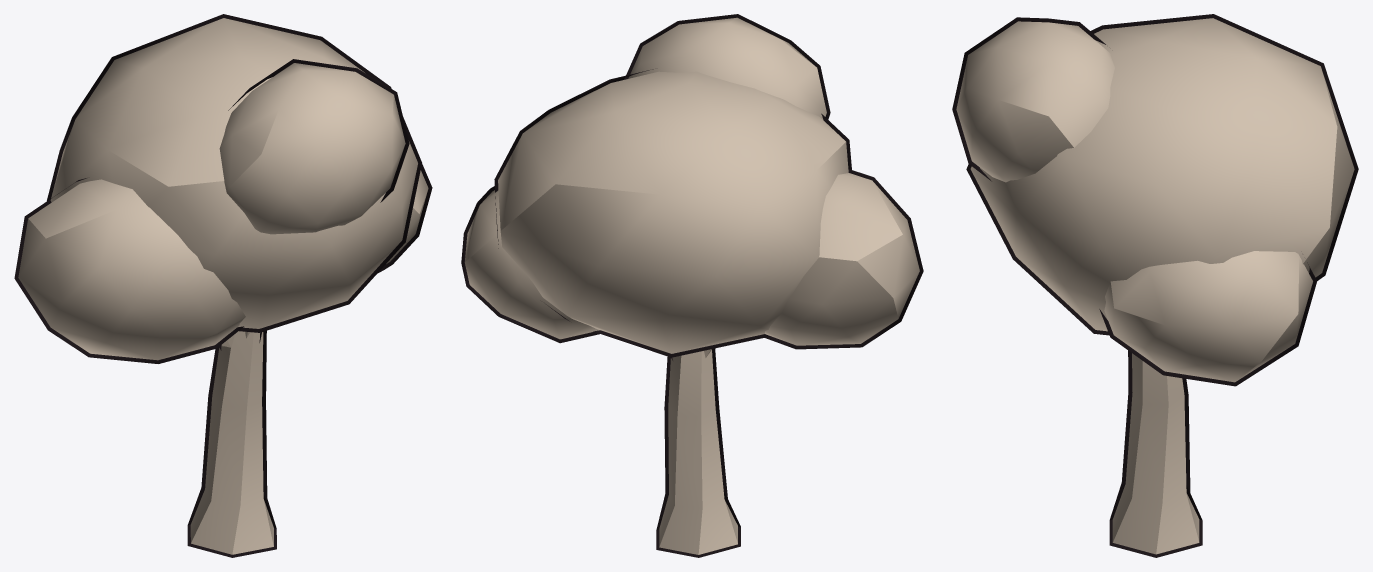
Rendered from SM_Tree_04.fbx.
3 views of the same model, side by side, from view 1: azimuth 30°, elevation 25°; view 2: azimuth 150°, elevation 25°; view 3: azimuth 270°, elevation 25° (orthographic). The views are drawn at different scales.
Visible parts, largest first — view 1: SM_Tree_04; view 2: SM_Tree_04; view 3: SM_Tree_04.
Boxes of the visible parts, x1,y1,x2,y2 form: SM_Tree_04: (14,14,432,557); SM_Tree_04: (461,14,923,557); SM_Tree_04: (952,14,1358,557).
Bounding box in the file's own units: 4.27 × 4.88 × 3.41.
